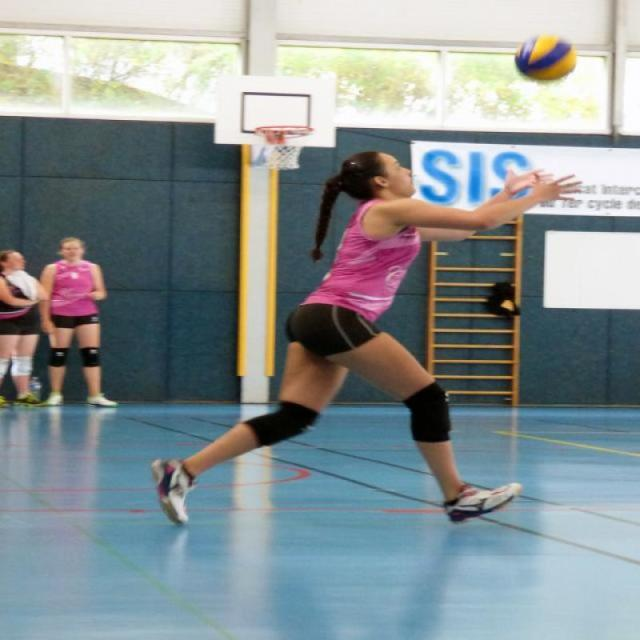volleyball: (512, 30, 576, 81)
